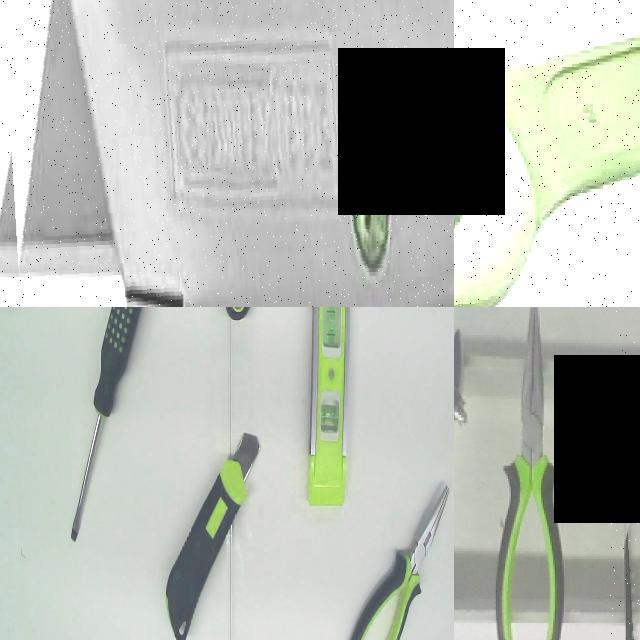estilete: (166, 433, 259, 639)
